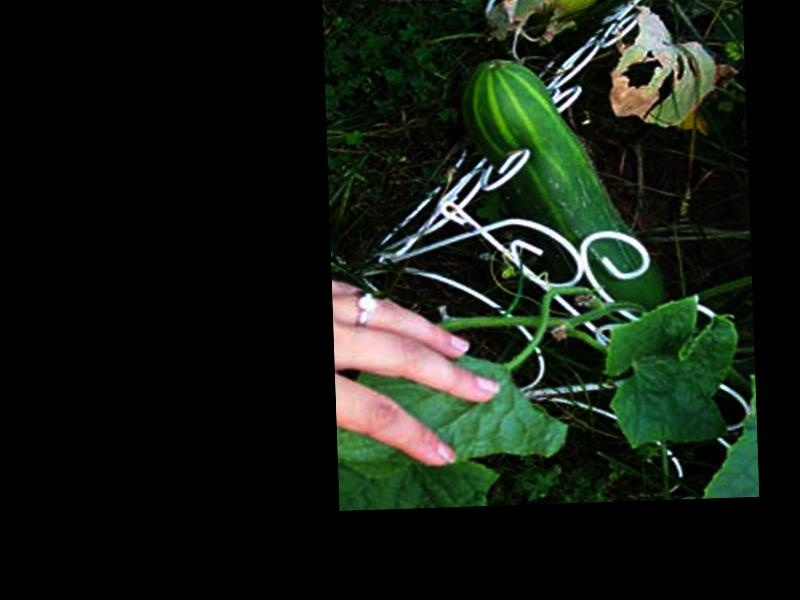Cucumber: (460, 54, 666, 320)
